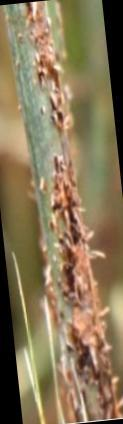Wheat: (67, 352, 119, 418), (53, 262, 96, 303), (62, 308, 105, 349), (47, 218, 89, 256), (51, 156, 75, 211), (27, 6, 51, 57), (35, 62, 58, 91), (47, 102, 64, 124)
